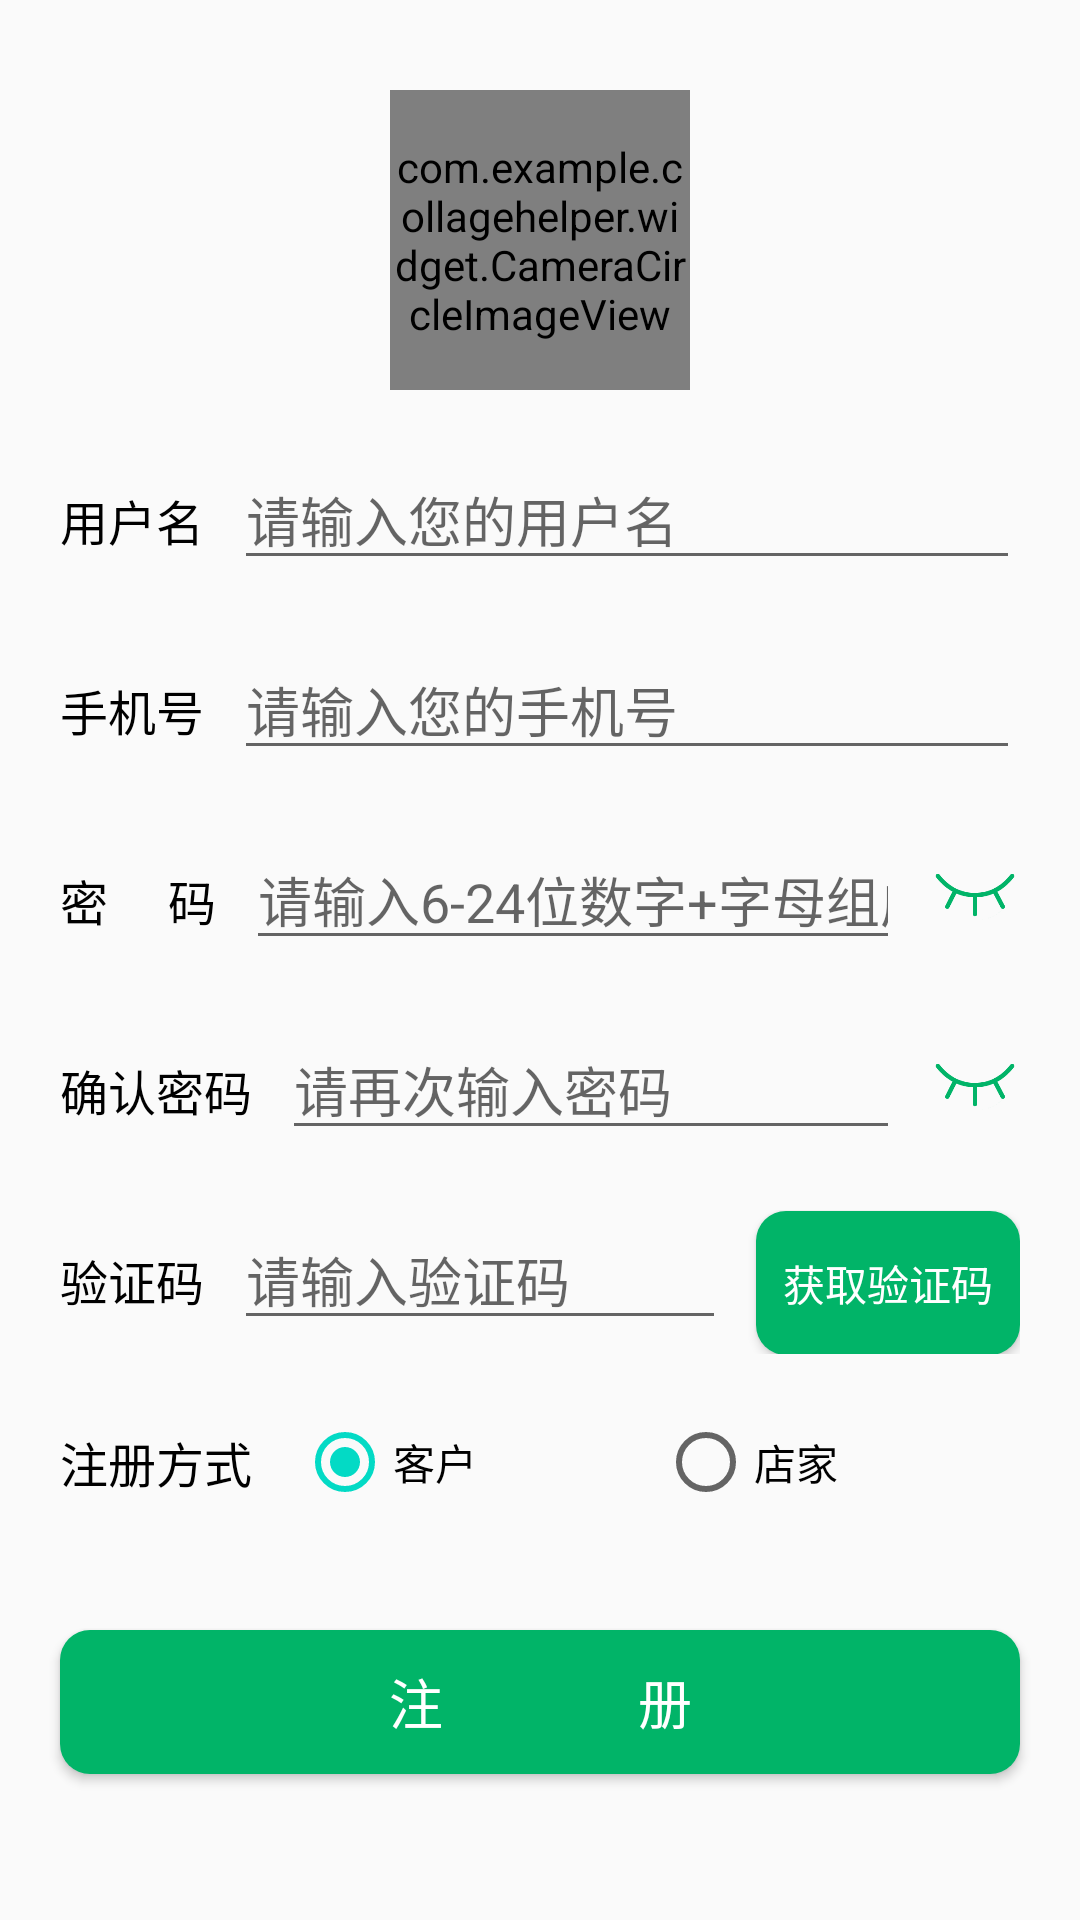

Locate icon controls on the screen. Image size 1080x1920, boxes as [x1, y1, x2, y2].
pwd unshow: [935, 874, 1015, 916], [935, 1064, 1015, 1106]
